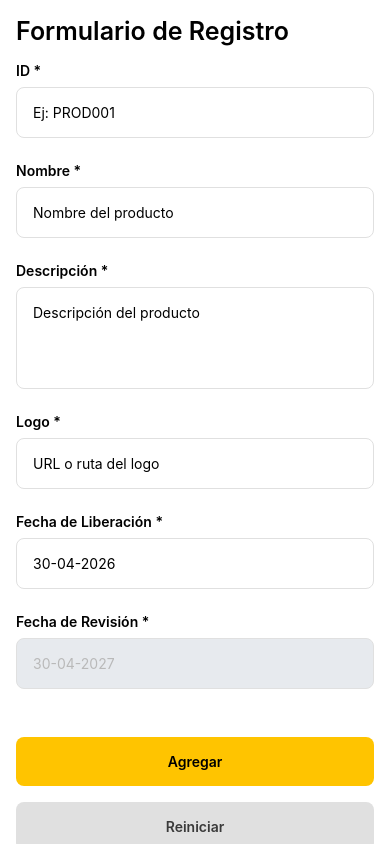
Test case: AddProductScreen › manejo de errores › debe mostrar error cuando la creación falla
The image size is (390, 844).
Type "PROD001" into the field with placeholder "Ej: PROD001".
click(195, 112); type("PROD001")  # box x1=16 y1=87 x2=374 y2=138
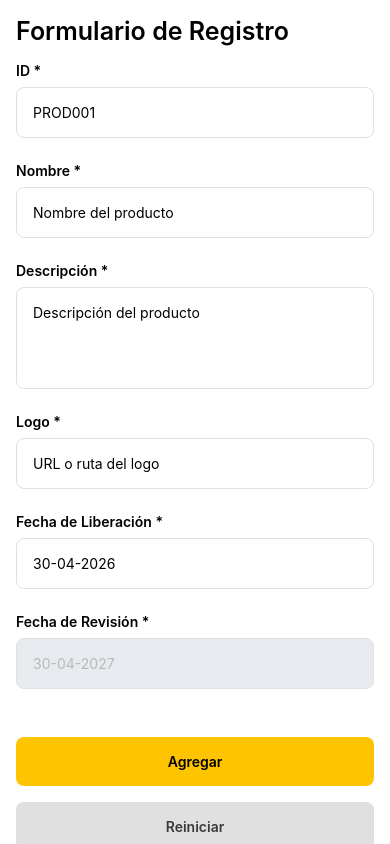
Type "Test Product" into the field with placeholder "Nombre del producto".
click(195, 212); type("Test Product")  # box x1=16 y1=187 x2=374 y2=238
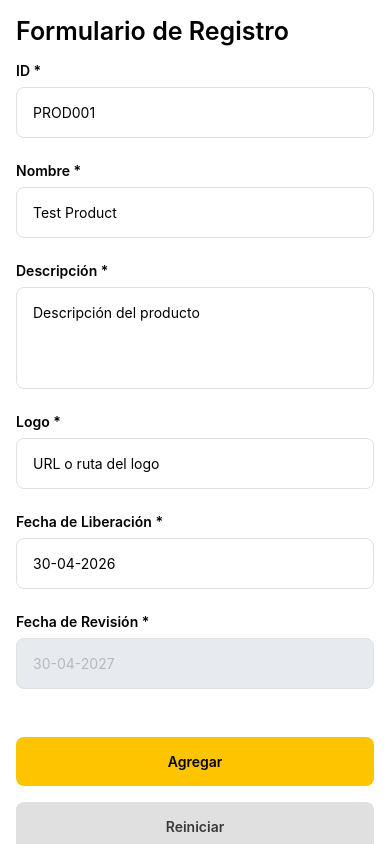
Type "Valid description" into the text box with placeholder "Descripción del producto".
click(195, 338); type("Valid description")  # box x1=16 y1=287 x2=374 y2=389
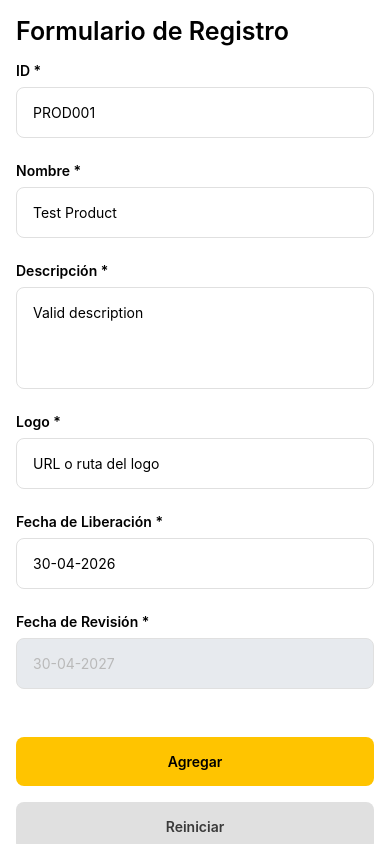
Type "logo.png" into the field with placeholder "URL o ruta del logo".
click(195, 464); type("logo.png")  # box x1=16 y1=438 x2=374 y2=489
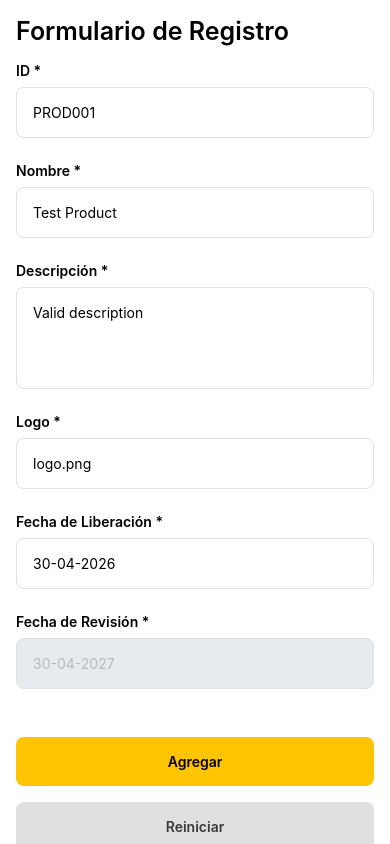
Click the text "Agregar".
click(195, 762)  # box x1=168 y1=753 x2=222 y2=770
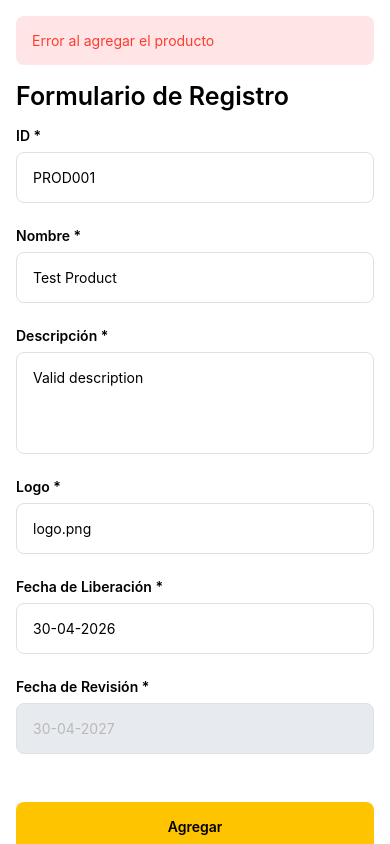
expect the text "Error al agregar el producto" is shown: met, box x1=16 y1=16 x2=374 y2=65
